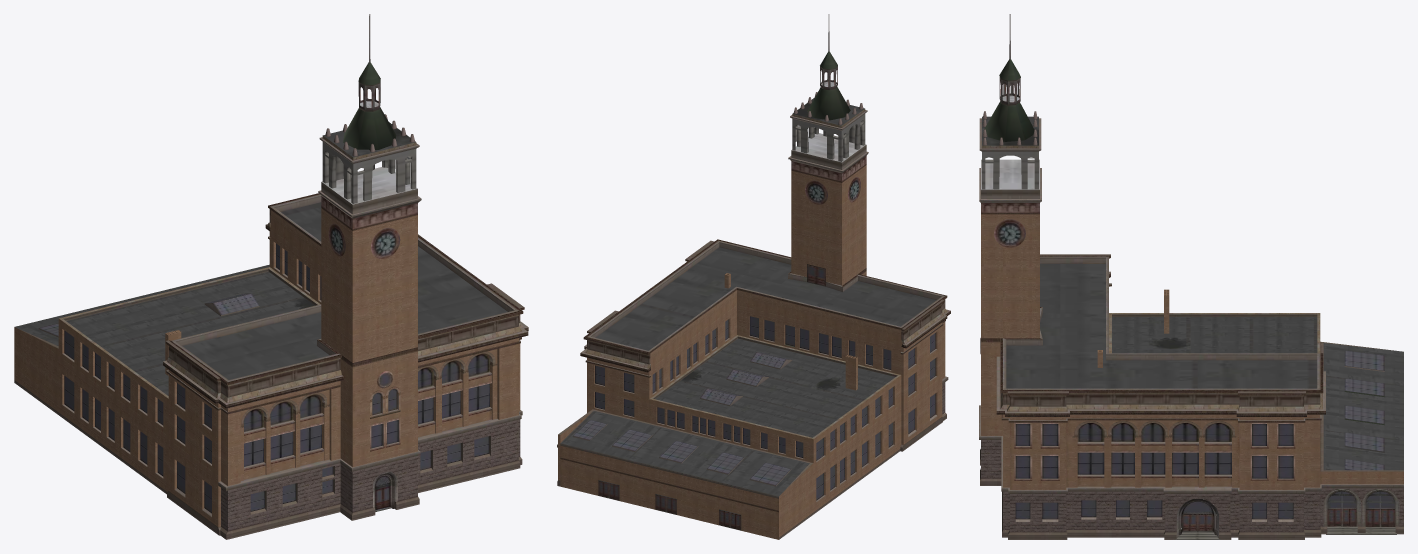
Rendered from big.glb.
3 views of the same model, side by side, from view 1: azimuth 30°, elevation 25°; view 2: azimuth 150°, elevation 25°; view 3: azimuth 270°, elevation 25° (orthographic). The views are drawn at different scales.
Parts seen in each view (by area): view 1: Object_3, Object_4; view 2: Object_3, Object_4; view 3: Object_3, Object_4.
Boxes of the visible parts, x1,y1,x2,y2 form: Object_3: (14,81,528,539); Object_4: (262,14,492,508); Object_3: (557,66,950,539); Object_4: (793,14,863,159); Object_3: (979,76,1403,539); Object_4: (983,14,1218,538).
Size of the model in its own units: 3798 by 5707 by 4816.
1 material, 1 textured.
